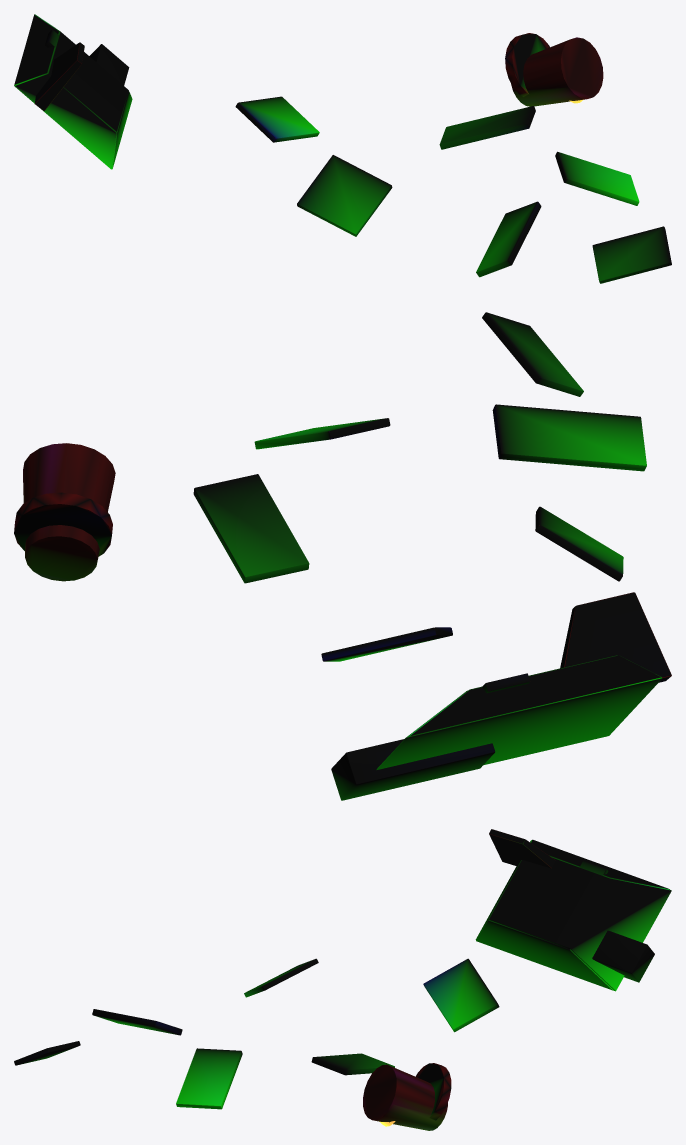
Rendered from hero_ship_wreck_debris.glb.
The picture shows the model from 3 angles, top to bottom: view 1: azimuth 30°, elevation 25°; view 2: azimuth 150°, elevation 25°; view 3: azimuth 270°, elevation 25°; orthographic projection. The views are drawn at different scales.
Parts seen in each view (by area): view 1: HeroShipWreckDebris; view 2: HeroShipWreckDebris; view 3: HeroShipWreckDebris.
Part boxes in pixels (box(x1,y1,x2,y2)): HeroShipWreckDebris: box(14, 14, 671, 283); HeroShipWreckDebris: box(14, 312, 671, 800); HeroShipWreckDebris: box(14, 829, 671, 1130).
Bounding box in the file's own units: 59.76 × 13.68 × 73.1.
